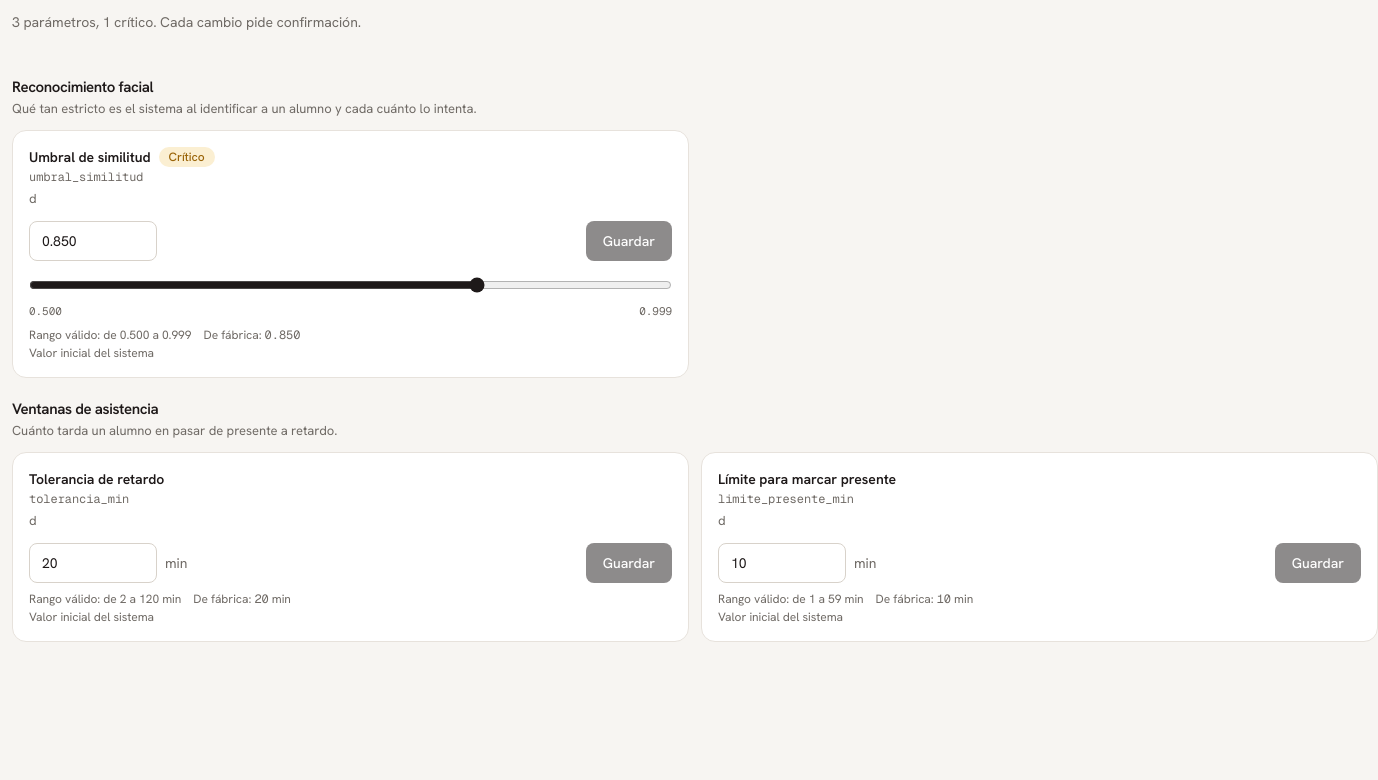
Test case: ParametrosEditor: guía para teclear un valor válido › el umbral lleva deslizador sincronizado con el campo; los enteros no
Step 1. Set the slider named "Deslizador de umbral de similitud" to "0.9" → (540,284), box [29,272,672,296]
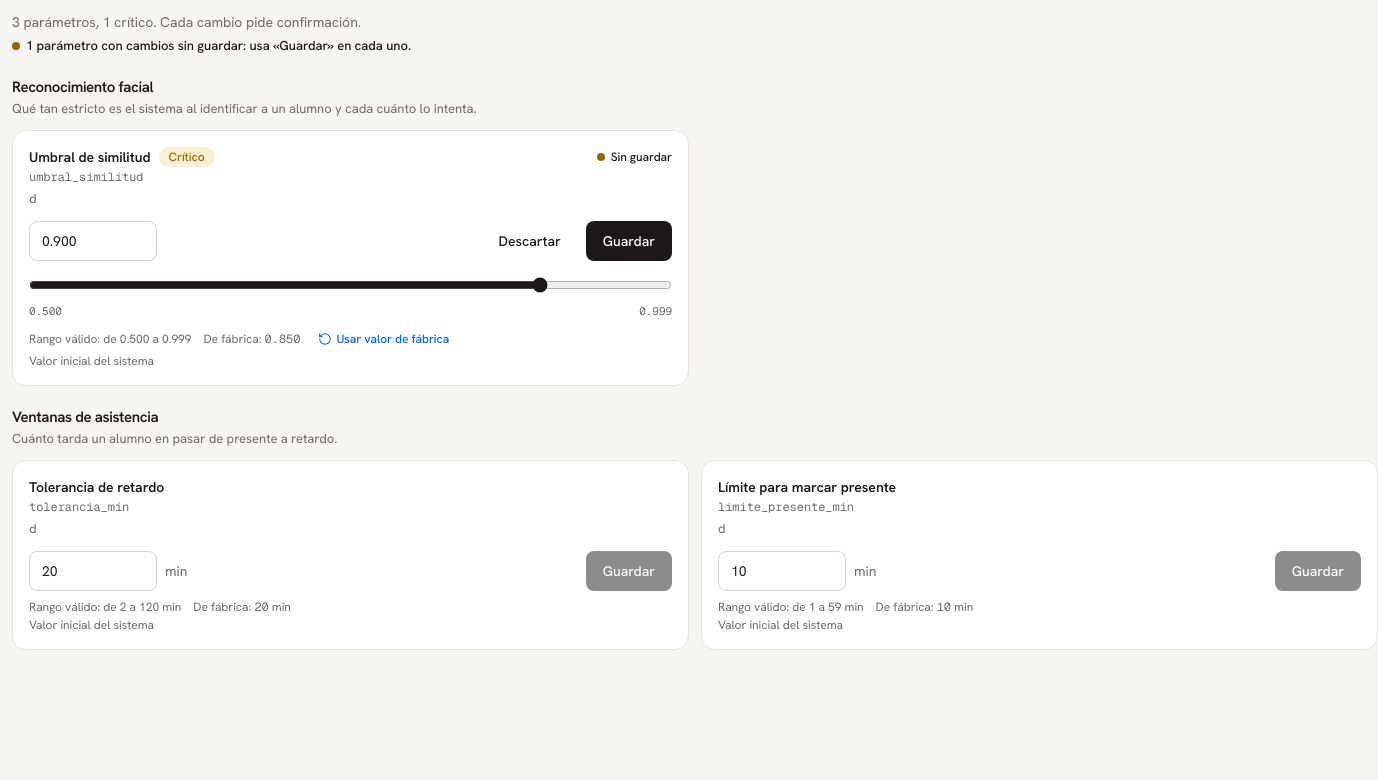
Check: the field labelled "Umbral de similitud" holds "0.900", box [29,220,157,260]
Check: the text "Sin guardar" is shown, box [597,149,672,165]
